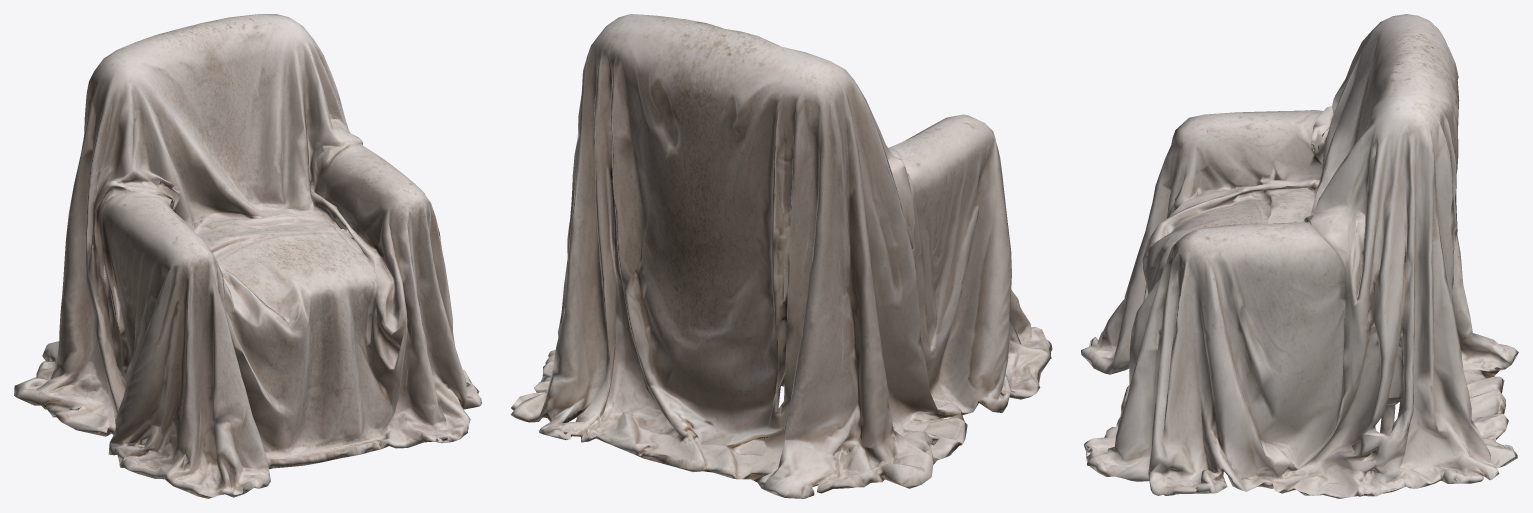
Rendered from VAR_DollRoom_SheetChair.fbx.
The picture shows the model from 3 angles, left to right: view 1: azimuth 30°, elevation 25°; view 2: azimuth 150°, elevation 25°; view 3: azimuth 270°, elevation 25°; orthographic projection. The views are drawn at different scales.
Visible parts, largest first — view 1: texture_mapping; view 2: texture_mapping; view 3: texture_mapping.
Part boxes in pixels (x1,y1,x2,y2): texture_mapping: (14,14,481,498); texture_mapping: (510,14,1052,498); texture_mapping: (1081,14,1518,498).
Size of the model in its own units: 1.01 by 0.9886 by 0.9084.
1 material, 1 textured.
